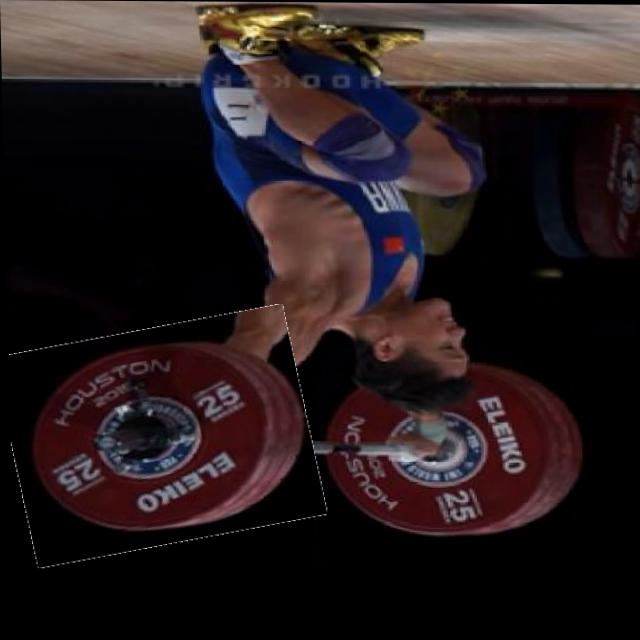barbell: (6, 316, 318, 558)
